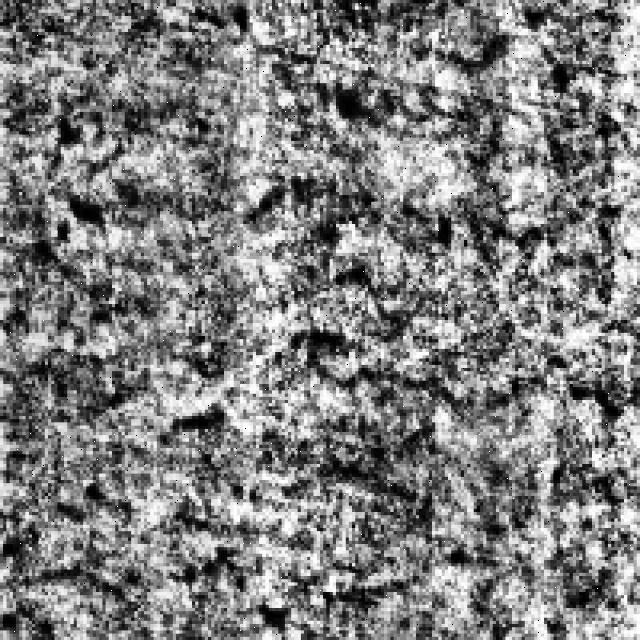Pitted_Surface: (3, 128, 253, 634), (300, 262, 630, 630)
